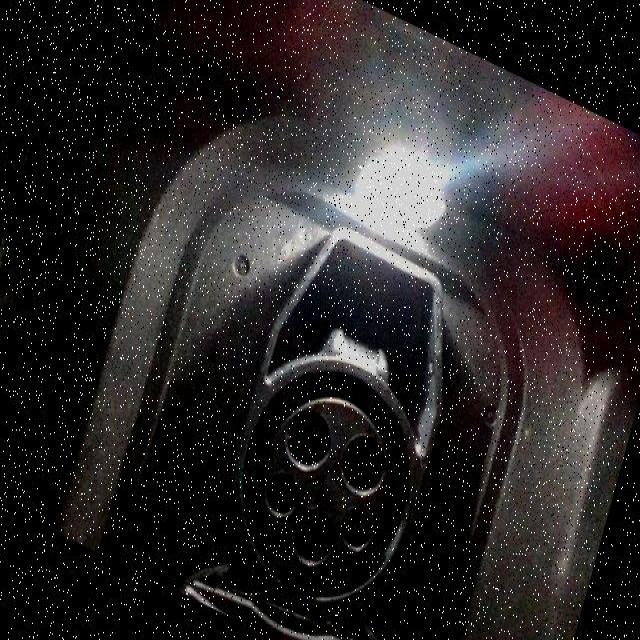Type 1: (248, 373, 405, 594)
